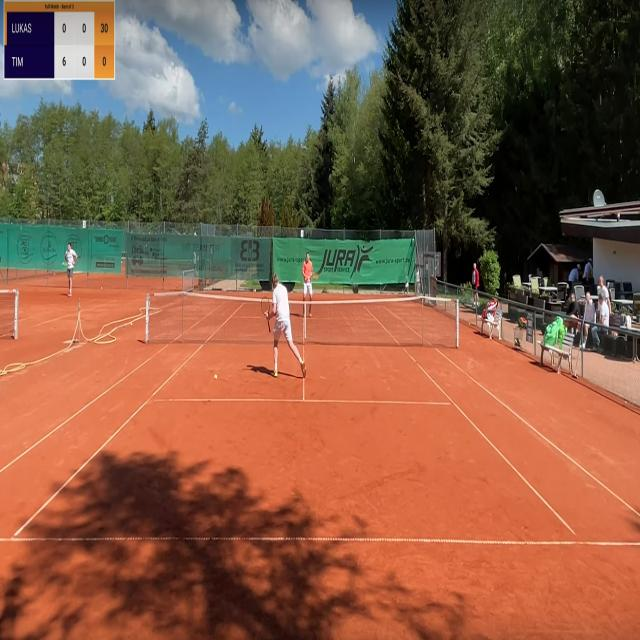ball: (214, 374, 217, 380)
